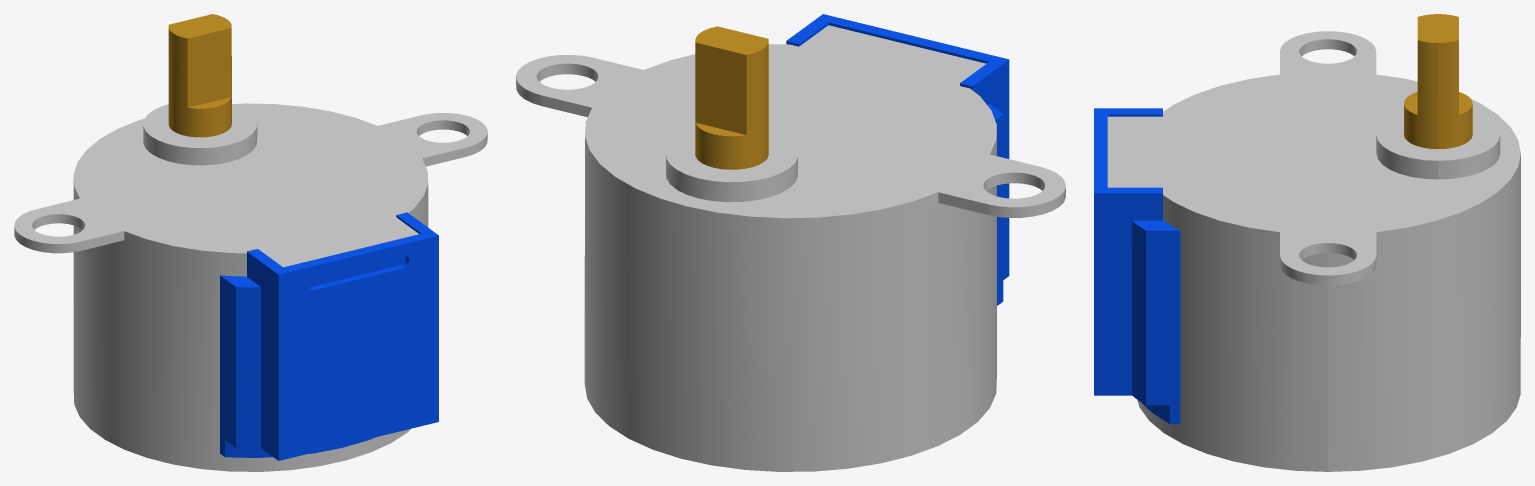
Rendered from fc-step-28byj48.glb.
The picture shows the model from 3 angles, left to right: view 1: azimuth 30°, elevation 25°; view 2: azimuth 150°, elevation 25°; view 3: azimuth 270°, elevation 25°; orthographic projection. The views are drawn at different scales.
Visible parts, largest first — view 1: 0.6666666666666666_0.6666666666666666_0.6666666666666666_0.8, 0_0.08333333333333333_1_0, 0.5833333333333334_0.25_0_0; view 2: 0.6666666666666666_0.6666666666666666_0.6666666666666666_0.8, 0.5833333333333334_0.25_0_0, 0_0.08333333333333333_1_0; view 3: 0.6666666666666666_0.6666666666666666_0.6666666666666666_0.8, 0_0.08333333333333333_1_0, 0.5833333333333334_0.25_0_0.
Part boxes in pixels (bbox=[...]): 0.6666666666666666_0.6666666666666666_0.6666666666666666_0.8: bbox=[14, 103, 487, 471]; 0_0.08333333333333333_1_0: bbox=[220, 212, 438, 460]; 0.5833333333333334_0.25_0_0: bbox=[168, 14, 231, 137]; 0.6666666666666666_0.6666666666666666_0.6666666666666666_0.8: bbox=[516, 25, 1065, 471]; 0.5833333333333334_0.25_0_0: bbox=[695, 26, 768, 169]; 0_0.08333333333333333_1_0: bbox=[786, 14, 1009, 305]; 0.6666666666666666_0.6666666666666666_0.6666666666666666_0.8: bbox=[1107, 31, 1520, 471]; 0_0.08333333333333333_1_0: bbox=[1094, 108, 1180, 424]; 0.5833333333333334_0.25_0_0: bbox=[1404, 14, 1472, 149].
Size of the model in its own units: 4.2 by 2.9 by 3.1.
